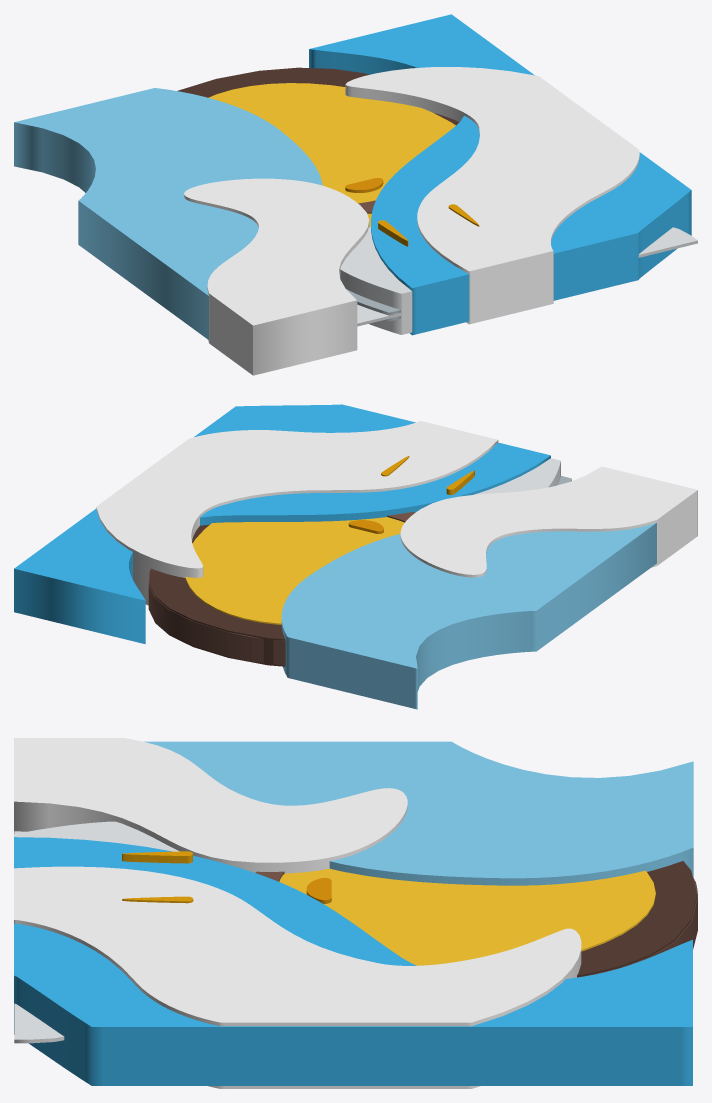
The model's file is emoji_u1f9d6_200d_2642.glb.
The picture shows the model from 3 angles, top to bottom: view 1: azimuth 30°, elevation 25°; view 2: azimuth 150°, elevation 25°; view 3: azimuth 270°, elevation 25°; orthographic projection. The views are drawn at different scales.
Parts seen in each view (by area): view 1: emoji_u1f9d6_200d_2642; view 2: emoji_u1f9d6_200d_2642; view 3: emoji_u1f9d6_200d_2642.
Part boxes in pixels (left/top/right/bottom): emoji_u1f9d6_200d_2642: left=14, top=14, right=697, bottom=375; emoji_u1f9d6_200d_2642: left=14, top=404, right=697, bottom=709; emoji_u1f9d6_200d_2642: left=14, top=738, right=697, bottom=1088.
Bounding box in the file's own units: 0.0334 × 0.004 × 0.0336.
